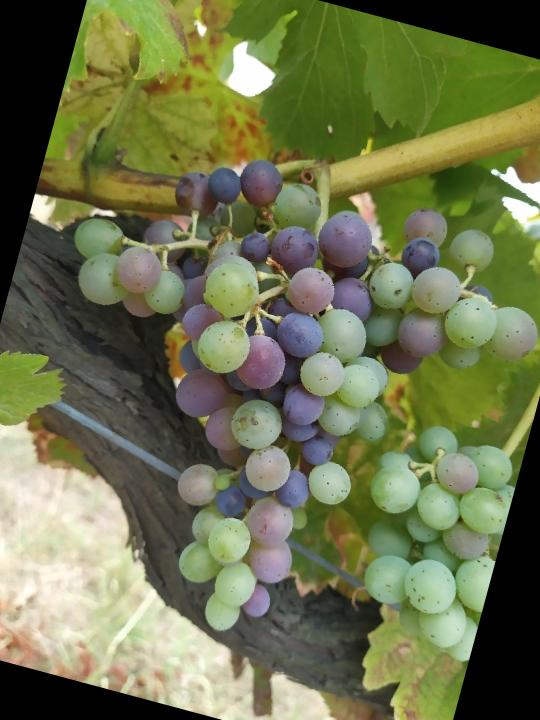grape: (0, 114, 540, 695)
